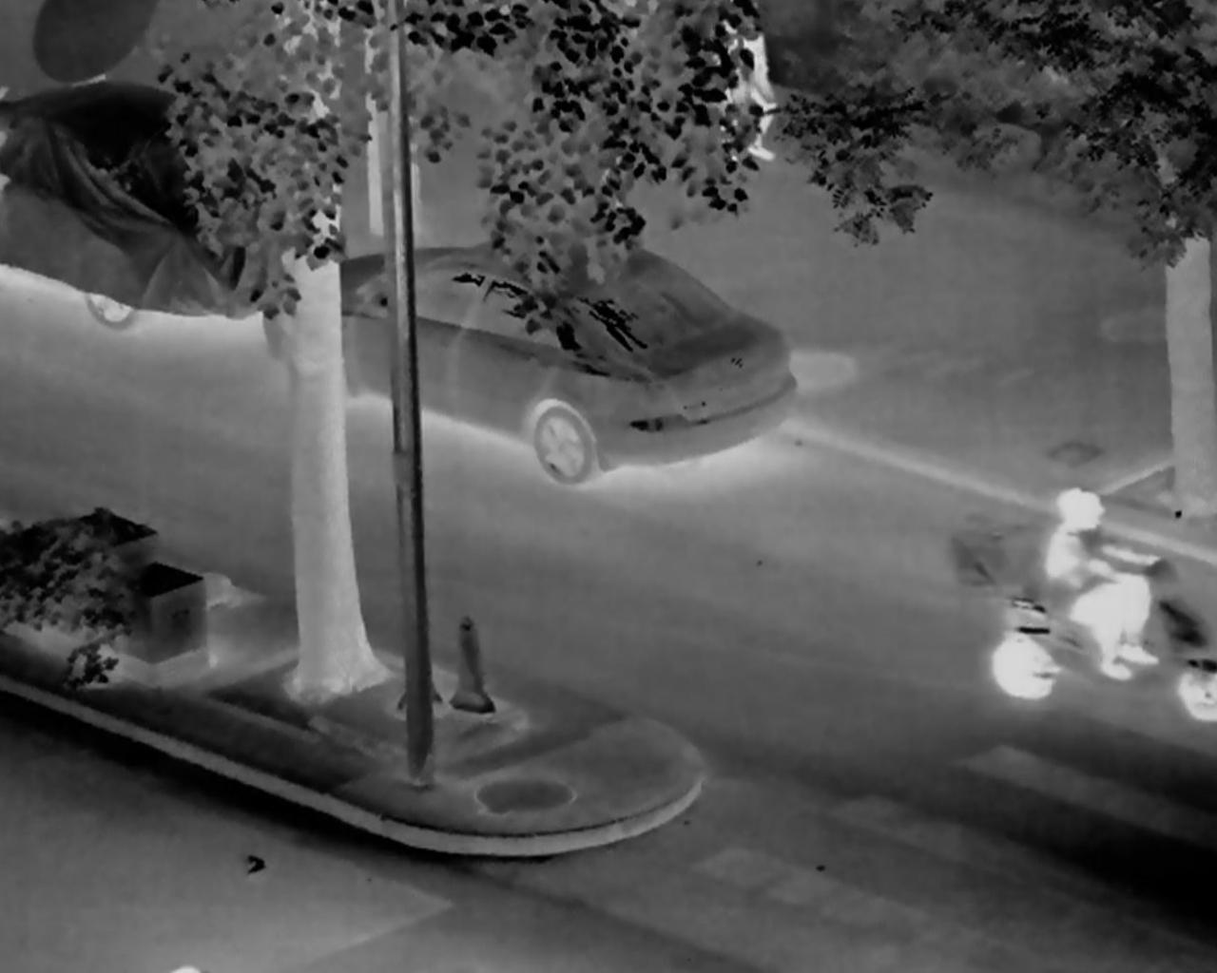person: (1049, 488, 1163, 683), (693, 5, 779, 175)
